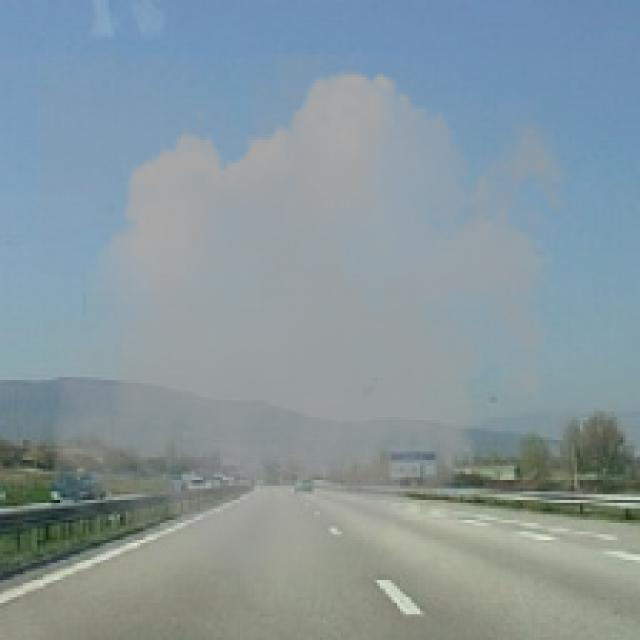Smoke: (37, 54, 586, 617)
